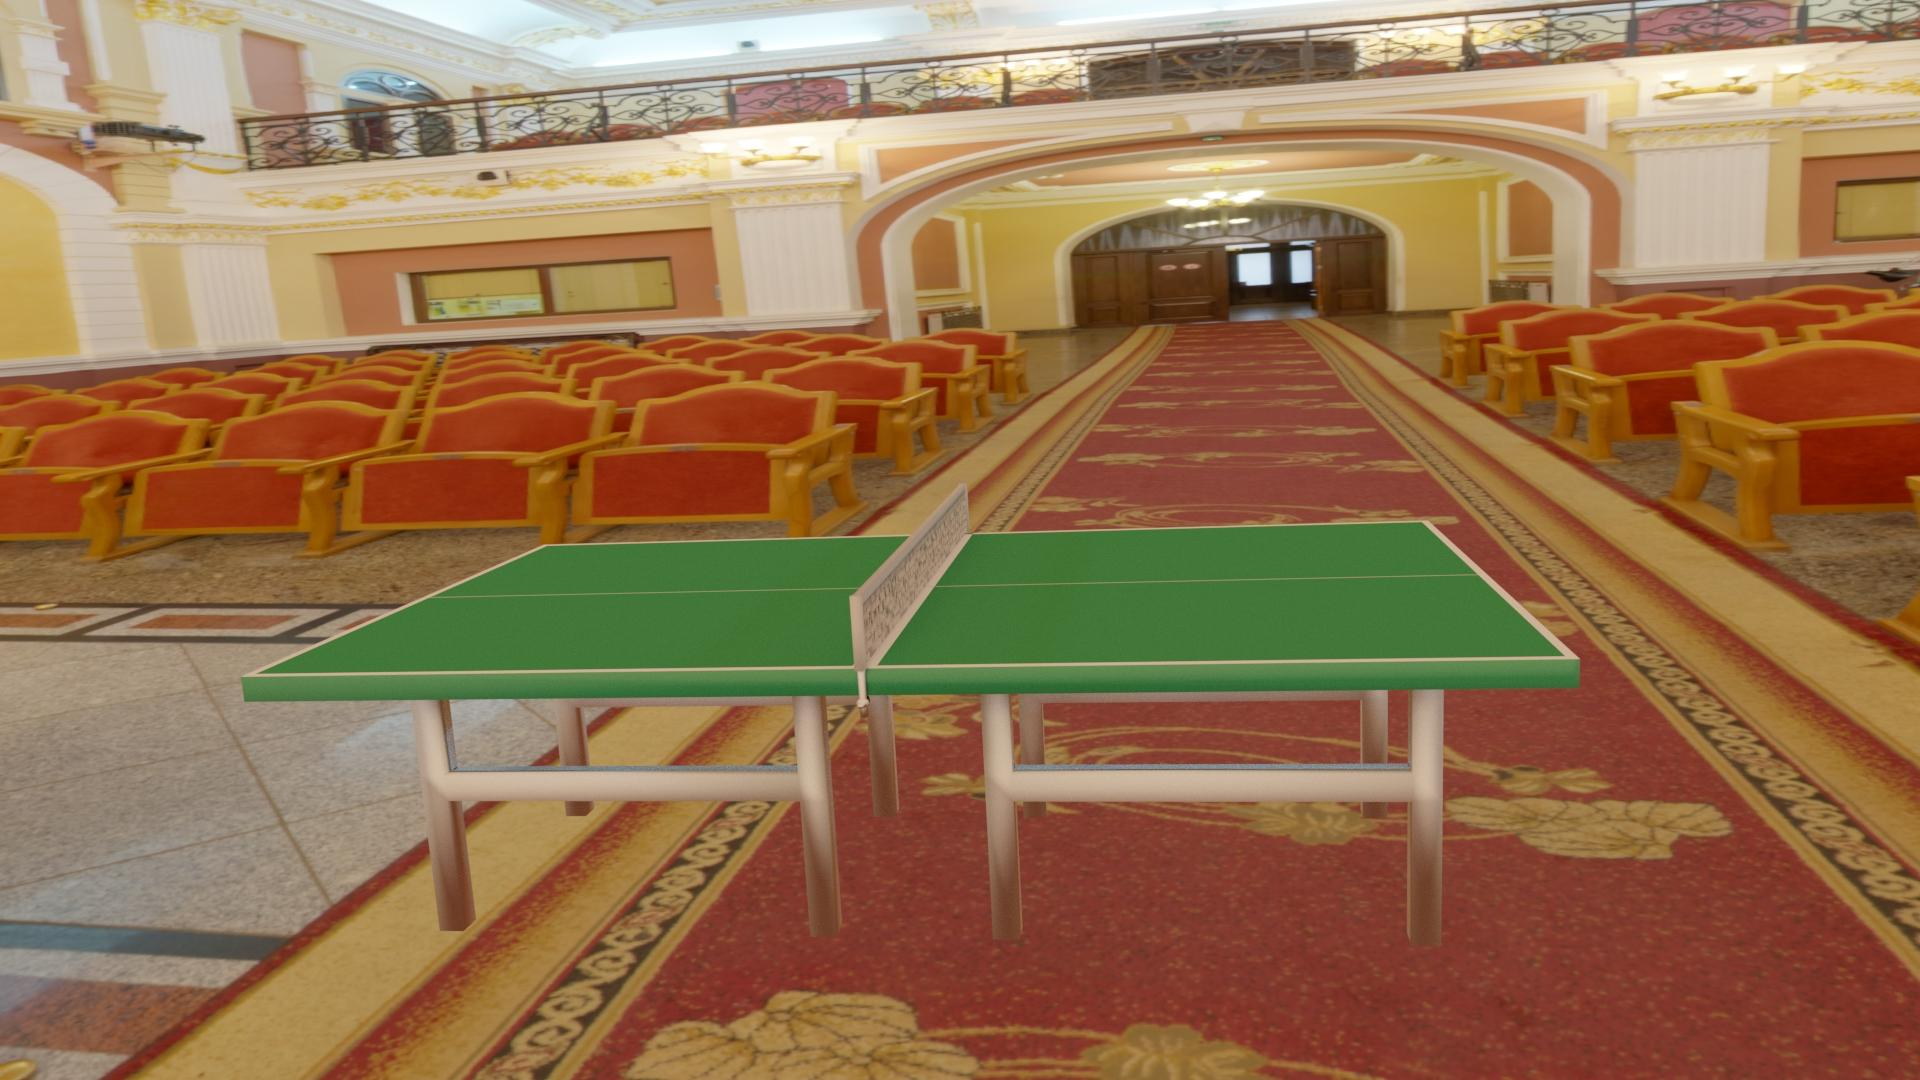table: (255, 522, 1565, 674)
